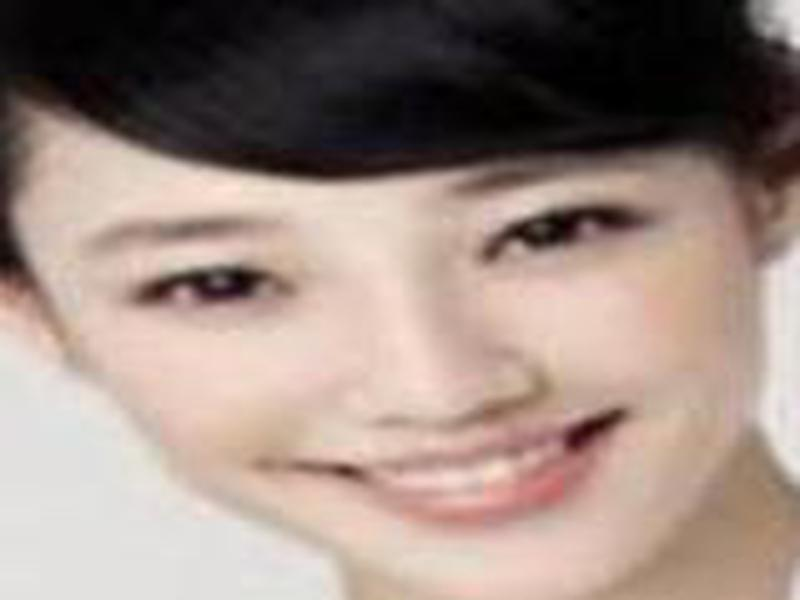without_mask: (14, 131, 772, 584)
